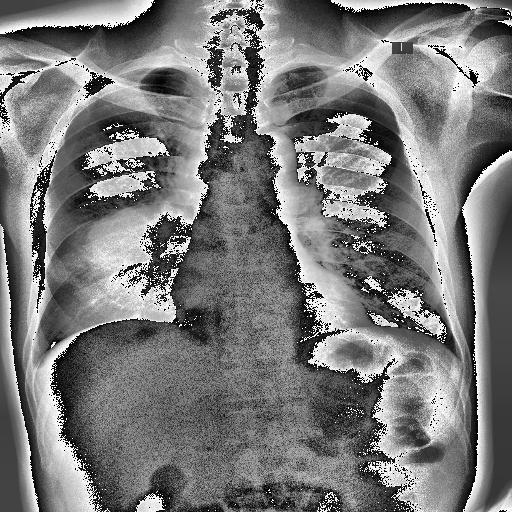4- Consolidation: (54, 200, 198, 322)
7- Lung Opacity: (54, 200, 198, 322)
8- Nodule-Mass: (60, 200, 203, 338), (51, 206, 200, 330), (54, 200, 198, 322)
